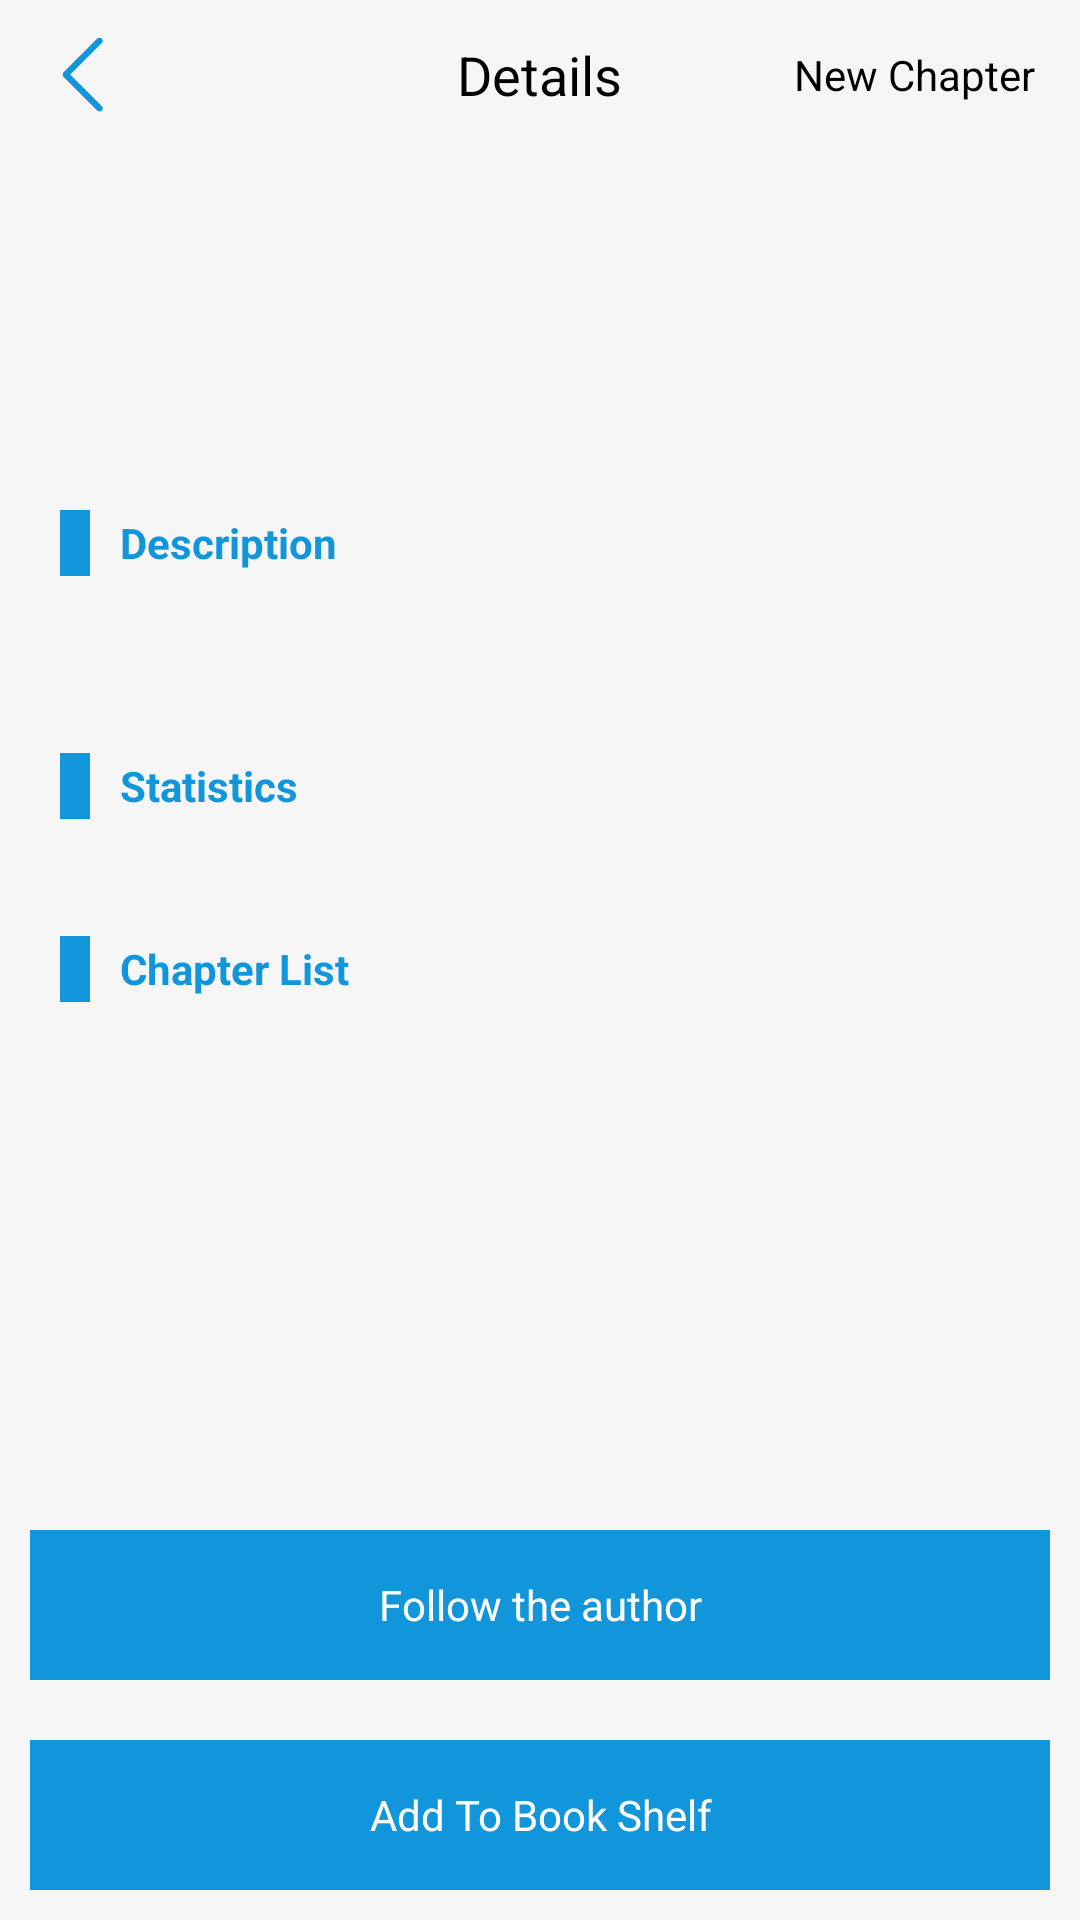

Named icons in this screenshot (1080px×1920px) and their bounding boxes, (x1, y1, x2, y2):
back: (62, 37, 103, 112)
